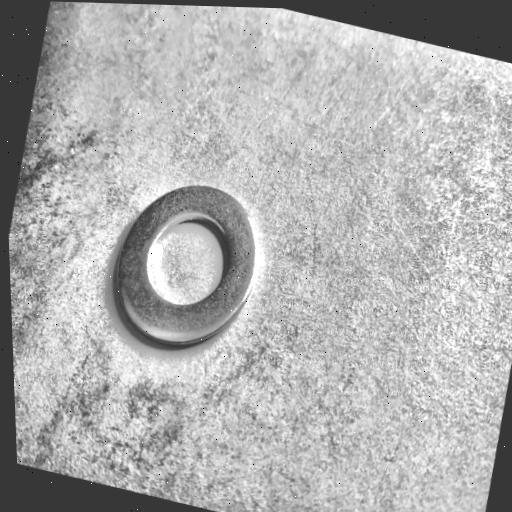Washer: (111, 185, 256, 349)
